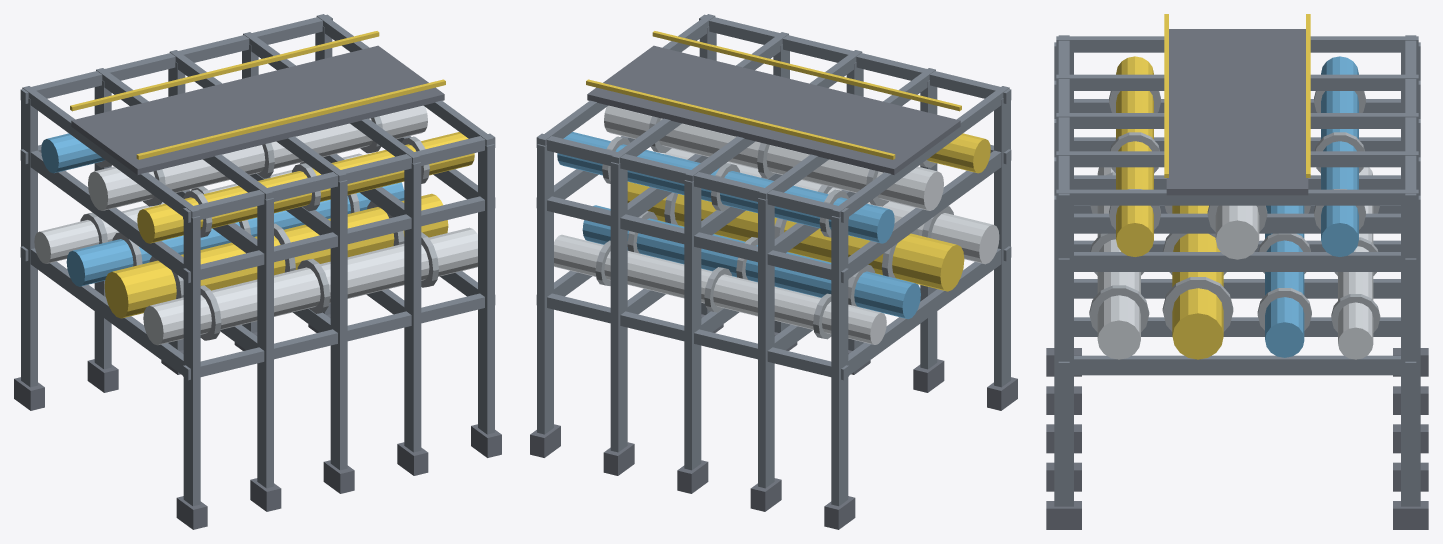
File: pipe_rack.glb
3 renders of one model, left to right at view 1: azimuth 30°, elevation 25°; view 2: azimuth 150°, elevation 25°; view 3: azimuth 270°, elevation 25°, orthographic. The views are drawn at different scales.
Visible parts, largest first — view 1: CatwalkDeck, Pipe_0, Pipe_5, Pipe_1, Pipe_4, ColL_0, ColL_3, ColL_2, ColL_4, ColL_1, Stringer_-0.44_0.92, ColR_0 (+32 smaller); view 2: CatwalkDeck, Pipe_3, Pipe_5, Pipe_1, Pipe_2, Pipe_6, ColR_0, ColR_3, ColR_2, ColR_4, ColR_1, Stringer_0.44_0.92 (+30 smaller); view 3: CatwalkDeck, Beam1_4, Beam2_4, ColL_4, ColR_4, BeamTop_4, Pipe_1, Pipe_4, Pipe_6, Beam2_3, Pipe_0, Pipe_2 (+32 smaller).
Part boxes in pixels (left/top/right/bottom): CatwalkDeck: left=71, top=45, right=444, bottom=174; Pipe_0: left=143, top=227, right=477, bottom=345; Pipe_5: left=88, top=105, right=427, bottom=210; Pipe_1: left=104, top=193, right=448, bottom=318; Pipe_4: left=137, top=132, right=474, bottom=243; ColL_0: left=183, top=216, right=200, bottom=506; ColL_3: left=404, top=162, right=421, bottom=452; ColL_2: left=330, top=180, right=347, bottom=470; ColL_4: left=478, top=144, right=494, bottom=434; ColL_1: left=257, top=198, right=273, bottom=488; Stringer_-0.44_0.92: left=183, top=133, right=495, bottom=222; ColR_0: left=21, top=98, right=37, bottom=387; CatwalkDeck: left=587, top=45, right=960, bottom=174; Pipe_3: left=554, top=234, right=886, bottom=344; Pipe_5: left=604, top=105, right=943, bottom=210; Pipe_1: left=627, top=181, right=964, bottom=291; Pipe_2: left=582, top=205, right=920, bottom=319; Pipe_6: left=557, top=132, right=894, bottom=243; ColR_0: left=831, top=216, right=848, bottom=506; ColR_3: left=610, top=162, right=627, bottom=452; ColR_2: left=684, top=180, right=701, bottom=470; ColR_4: left=537, top=144, right=553, bottom=434; ColR_1: left=758, top=198, right=774, bottom=488; Stringer_0.44_0.92: left=536, top=133, right=848, bottom=222; CatwalkDeck: left=1166, top=29, right=1308, bottom=195; Beam1_4: left=1074, top=355, right=1400, bottom=375; Beam2_4: left=1074, top=252, right=1400, bottom=271; ColL_4: left=1054, top=195, right=1073, bottom=506; ColR_4: left=1401, top=195, right=1420, bottom=506; BeamTop_4: left=1056, top=189, right=1418, bottom=205; Pipe_1: left=1172, top=205, right=1223, bottom=359; Pipe_4: left=1116, top=56, right=1153, bottom=256; Pipe_6: left=1321, top=56, right=1358, bottom=256; Beam2_3: left=1074, top=213, right=1400, bottom=233; Pipe_0: left=1097, top=167, right=1140, bottom=359; Pipe_2: left=1265, top=205, right=1304, bottom=357.
Size of the model in its own units: 1 by 0.996 by 0.97.
